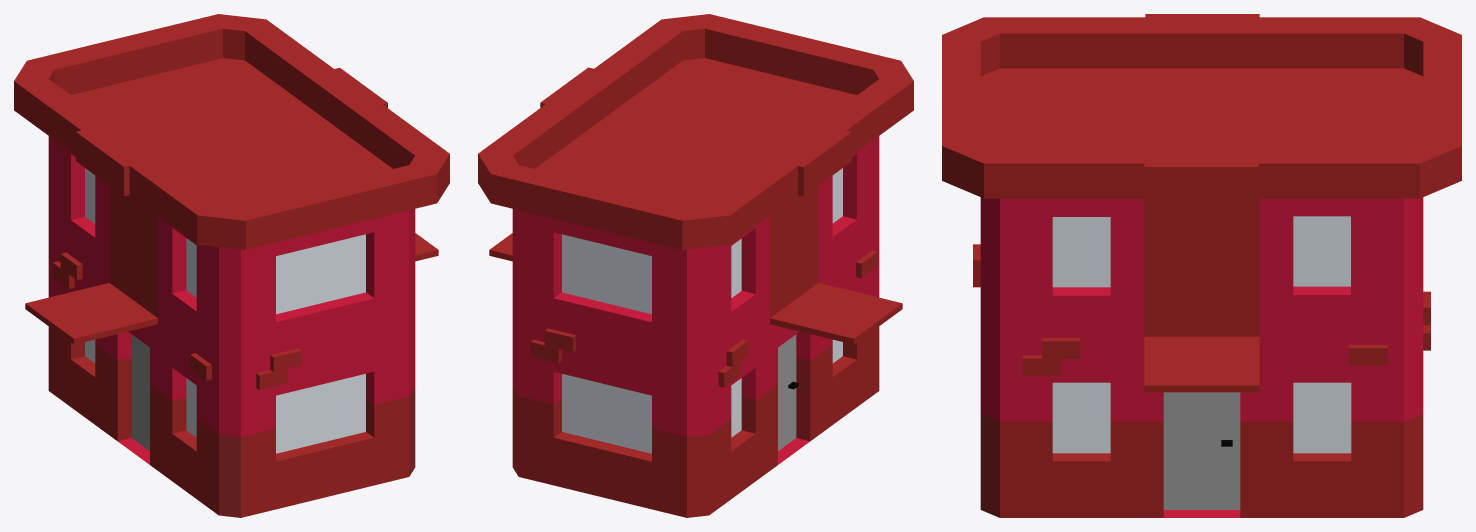
File: Edificio 8.fbx
3 renders of one model, left to right at view 1: azimuth 30°, elevation 25°; view 2: azimuth 150°, elevation 25°; view 3: azimuth 270°, elevation 25°, orthographic. The views are drawn at different scales.
Visible parts, largest first — view 1: [3686], Pared 1 [3979], Pared 2 [3769], Pared 1 [3712]; view 2: [3686], Pared 1 [3979], Pared 2 [3766], Pared 1 [3712]; view 3: Pared 1 [3712], [3686].
Boxes of the visible parts, left/top/right/bottom form: [3686]: left=14, top=14, right=449, bottom=517; Pared 1 [3979]: left=25, top=130, right=218, bottom=515; Pared 2 [3769]: left=241, top=210, right=409, bottom=517; Pared 1 [3712]: left=334, top=68, right=438, bottom=261; [3686]: left=478, top=14, right=913, bottom=517; Pared 1 [3979]: left=709, top=130, right=902, bottom=515; Pared 2 [3766]: left=518, top=210, right=686, bottom=517; Pared 1 [3712]: left=489, top=67, right=593, bottom=261; Pared 1 [3712]: left=1000, top=163, right=1403, bottom=517; [3686]: left=942, top=17, right=1461, bottom=517.
Bounding box in the file's own units: 512 × 531 × 418.
